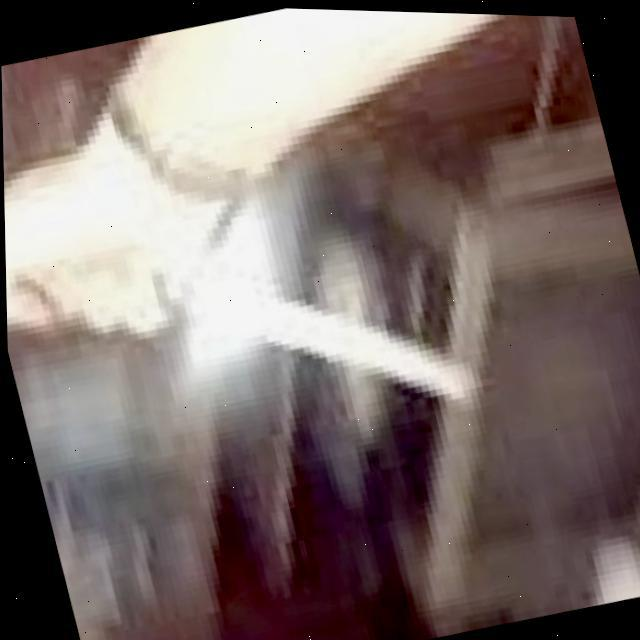knife: (75, 175, 486, 470)
